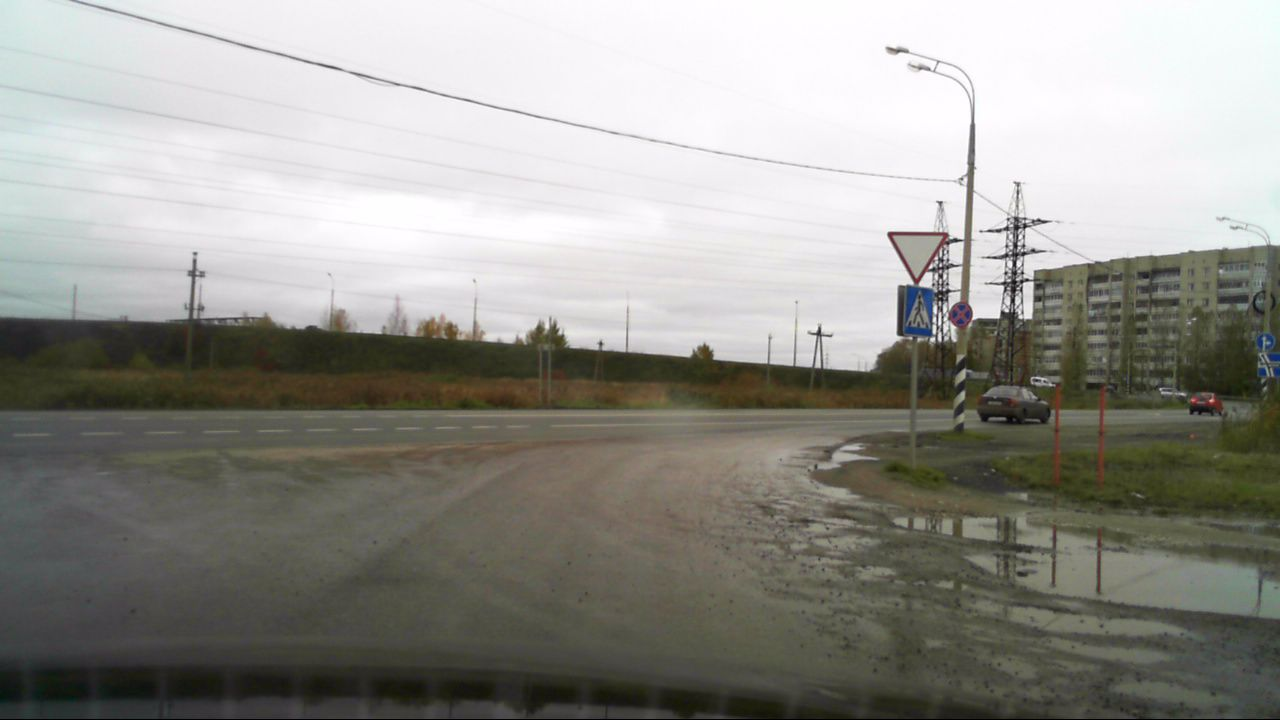No Parking: (949, 300, 973, 327)
